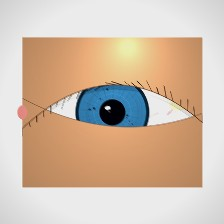pinguecula_lesion: (159, 90, 197, 121)
